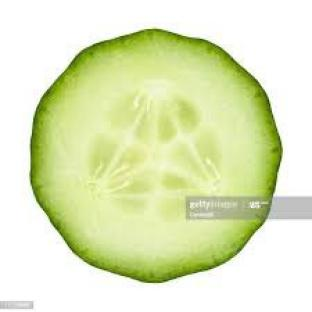Cucumber: (31, 30, 281, 281)
